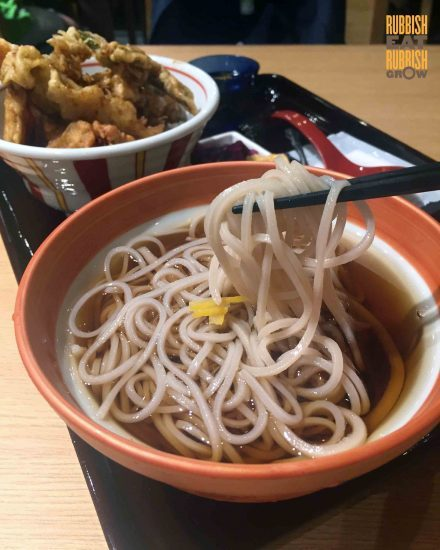Soba: (93, 168, 399, 465)
